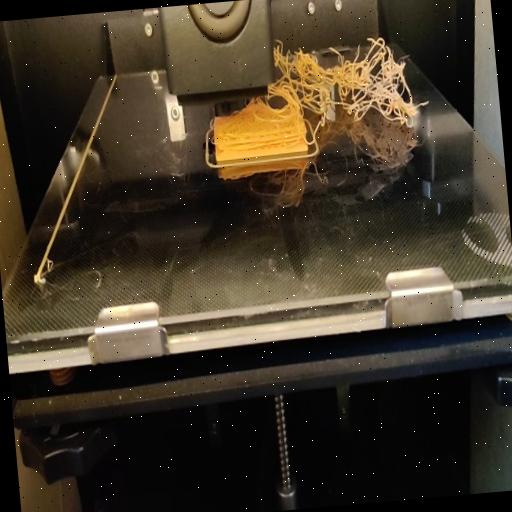spaghetti: (274, 26, 431, 140), (250, 84, 283, 142)
